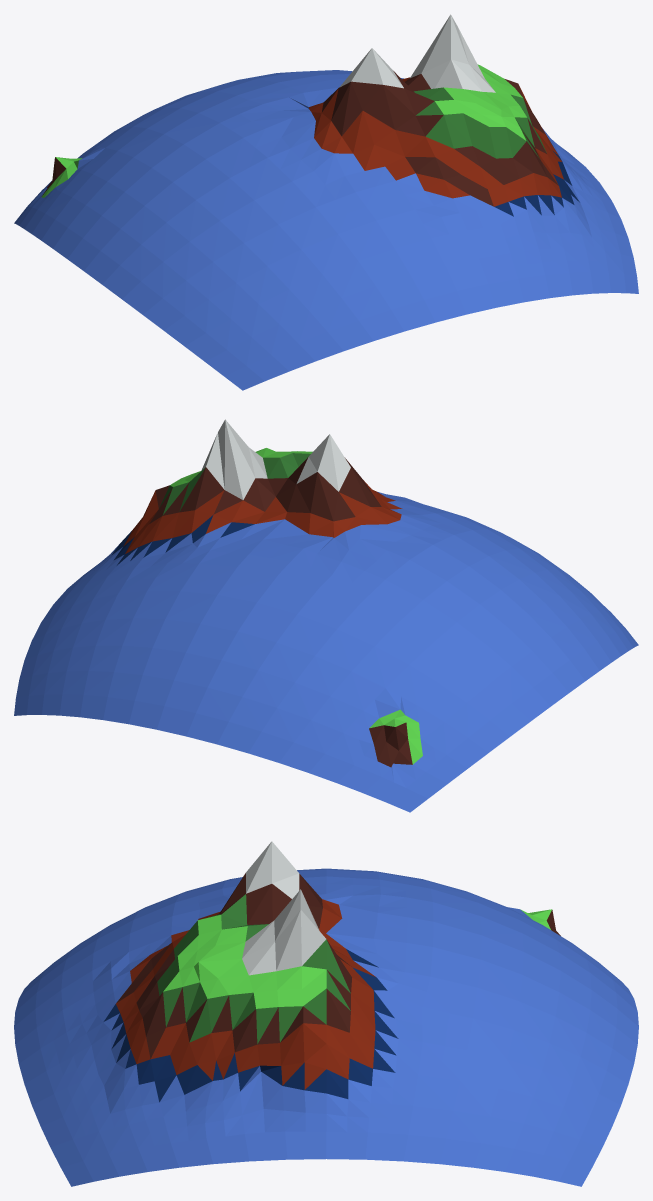
The model's file is CubePart006.fbx.
The picture shows the model from 3 angles, top to bottom: view 1: azimuth 30°, elevation 25°; view 2: azimuth 150°, elevation 25°; view 3: azimuth 270°, elevation 25°; orthographic projection. The views are drawn at different scales.
Visible parts, largest first — view 1: Cube.009; view 2: Cube.009; view 3: Cube.009.
Part boxes in pixels (x1=…): Cube.009: x1=14, y1=14, x2=638, y2=390; Cube.009: x1=14, y1=419, x2=638, y2=812; Cube.009: x1=14, y1=841, x2=638, y2=1186.
Size of the model in its own units: 181 by 80.52 by 181.
